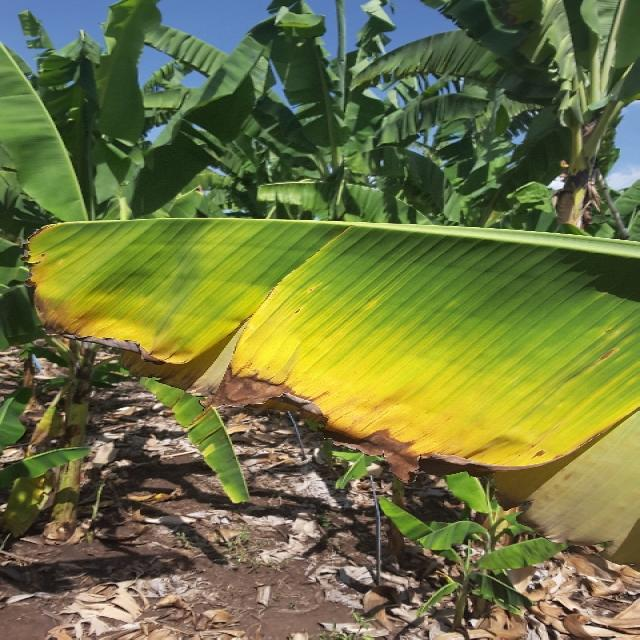Cordana: (14, 215, 640, 485), (155, 398, 269, 509), (2, 478, 88, 575), (18, 400, 98, 470), (484, 488, 552, 542)
